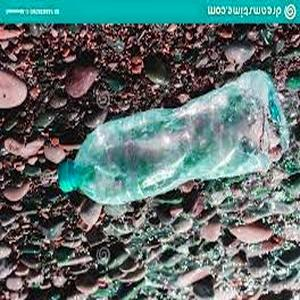Plastic: (54, 67, 292, 207)
